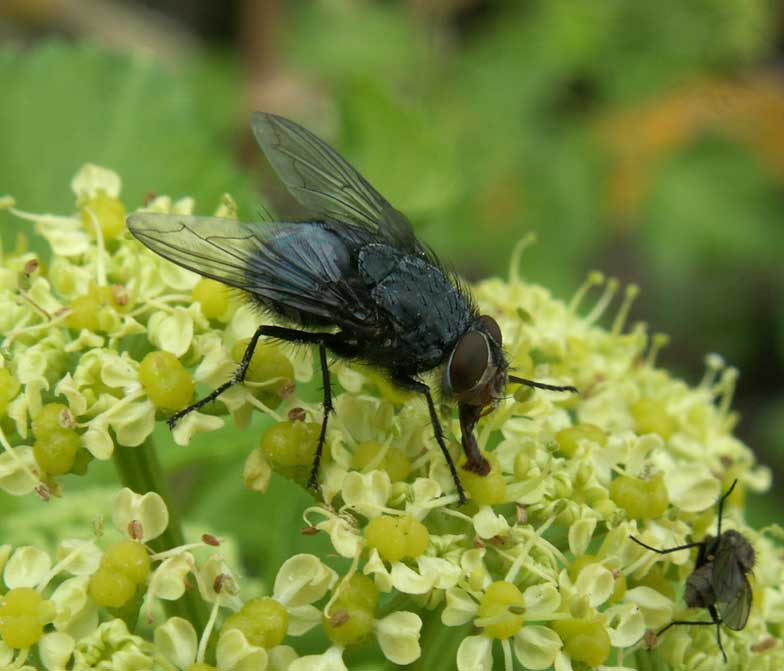green bottles flies: (113, 43, 586, 518)
